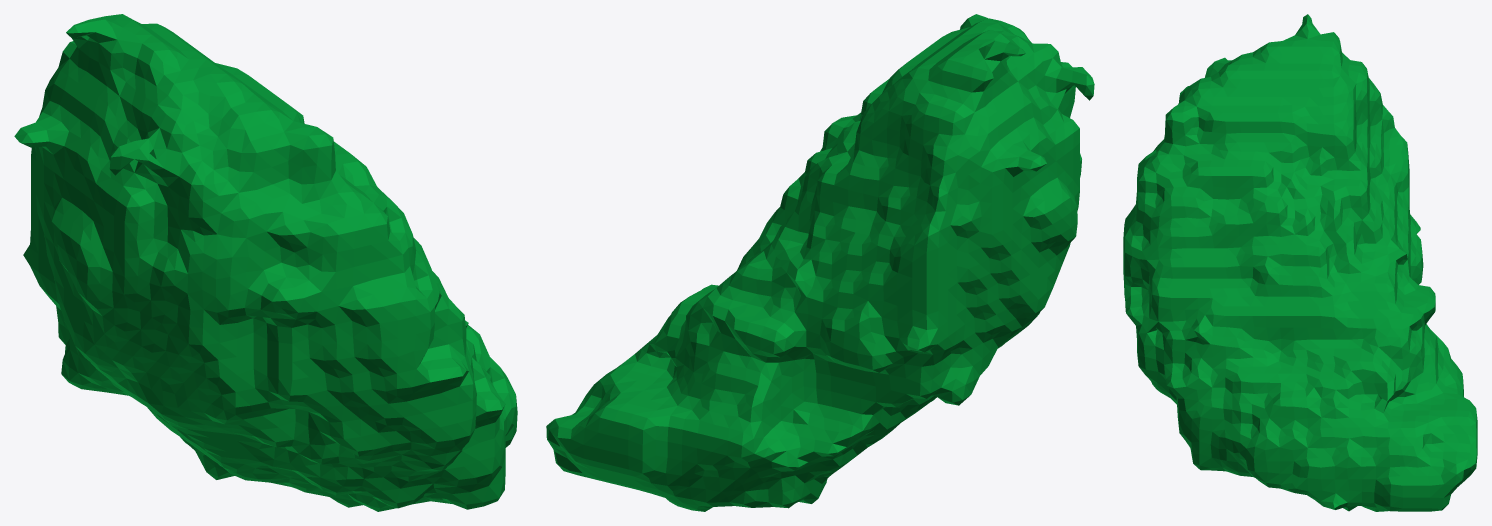
Rendered from aseg_049_Right-Thalamus.glb.
The picture shows the model from 3 angles, left to right: view 1: azimuth 30°, elevation 25°; view 2: azimuth 150°, elevation 25°; view 3: azimuth 270°, elevation 25°; orthographic projection. The views are drawn at different scales.
Bounding box in the file's own units: 27.8 × 30.63 × 26.
